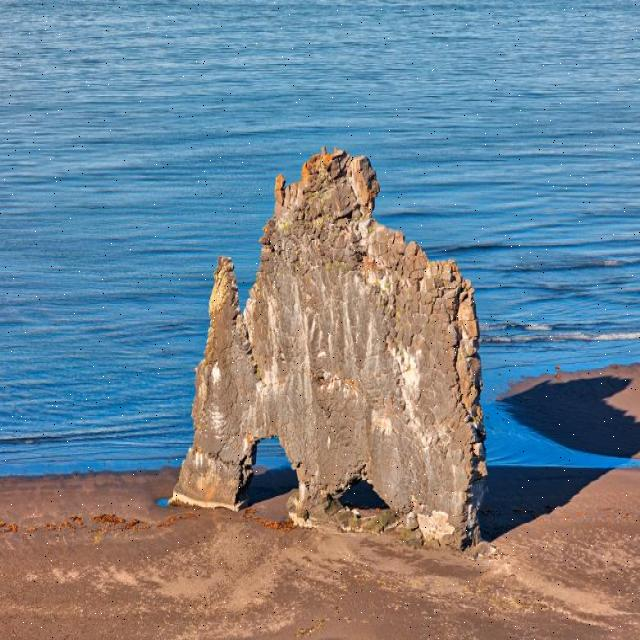Igneous: (133, 139, 503, 549)
